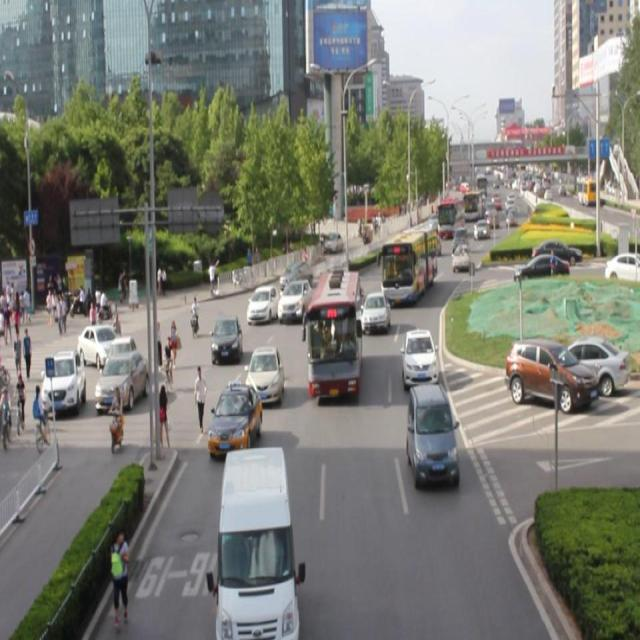car: (407, 384, 458, 484), (208, 382, 262, 458), (245, 345, 283, 406), (401, 328, 438, 387), (212, 314, 243, 366), (276, 279, 312, 321), (330, 280, 363, 321), (246, 284, 277, 322), (362, 291, 390, 332)
truck: (215, 448, 298, 640)
van: (305, 271, 361, 394), (381, 224, 436, 305)
